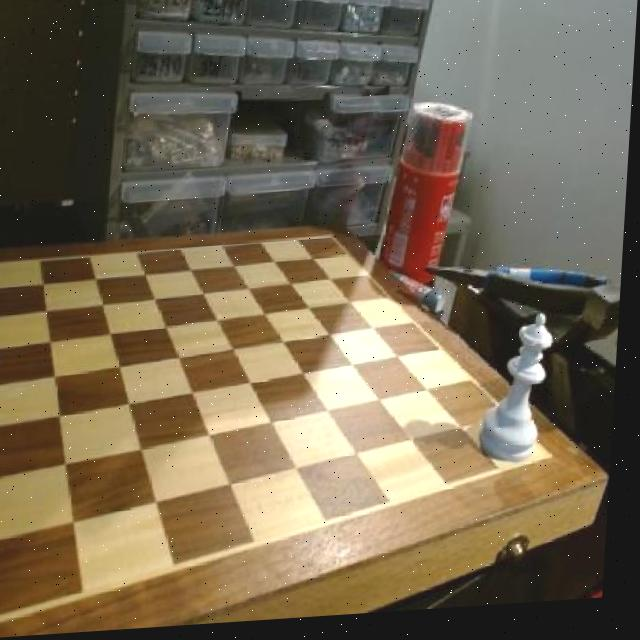white-pawn: (483, 316, 563, 476)
